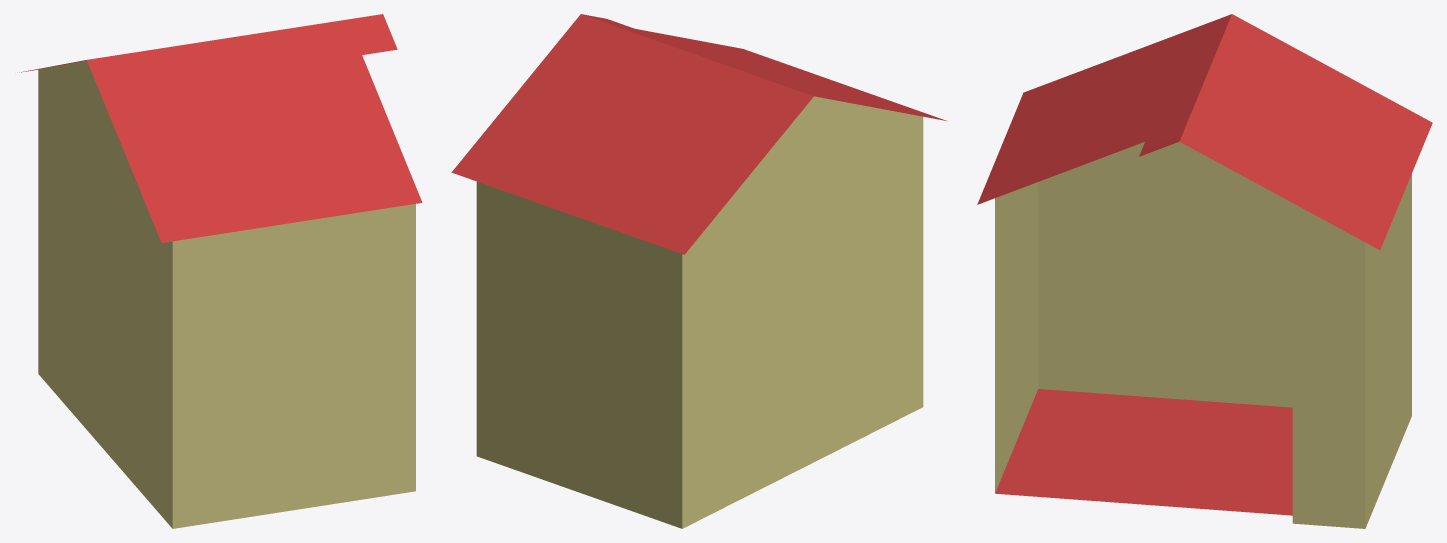
3 renders of one model, left to right at view 1: azimuth 30°, elevation 25°; view 2: azimuth 150°, elevation 25°; view 3: azimuth 270°, elevation 25°, orthographic. The views are drawn at different scales.
Size of the model in its own units: 10.3 by 12.56 by 11.6.
